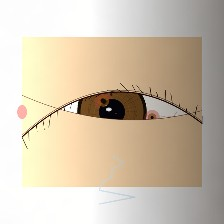foreign_body_visible: (87, 88, 120, 114)
